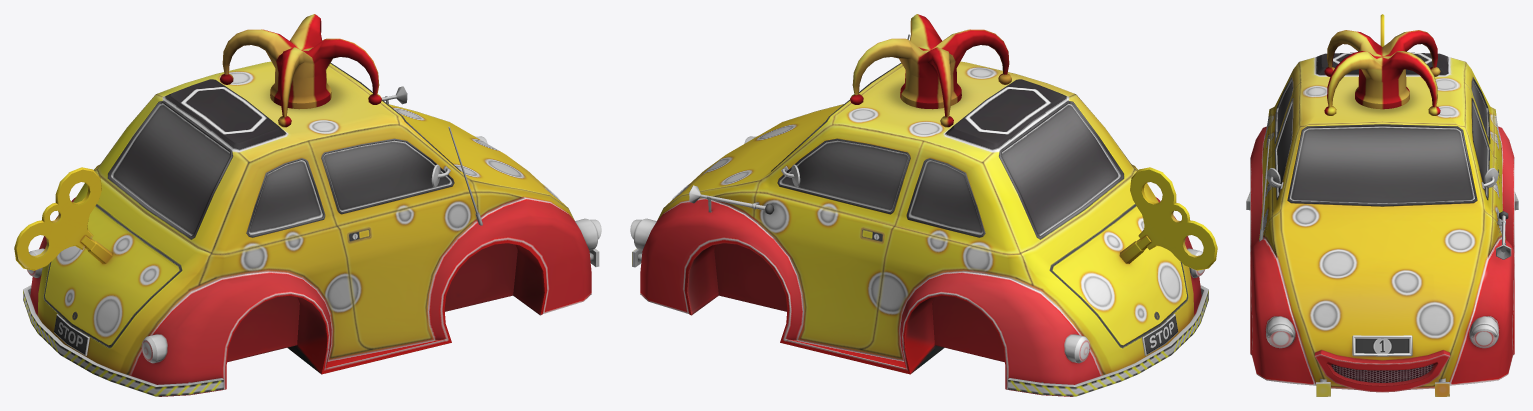
The model's file is f1_car_clown_01.dae.
3 views of the same model, side by side, from view 1: azimuth 30°, elevation 25°; view 2: azimuth 150°, elevation 25°; view 3: azimuth 270°, elevation 25° (orthographic). The views are drawn at different scales.
Visible parts, largest first — view 1: car_body; view 2: car_body; view 3: car_body.
Boxes of the visible parts, box(x1,y1,x2,y2) form: car_body: box(14, 14, 601, 396); car_body: box(630, 14, 1217, 396); car_body: box(1246, 14, 1518, 396).
Bounding box in the file's own units: 0.4024 × 0.1936 × 0.1918.
1 material, 1 textured.
